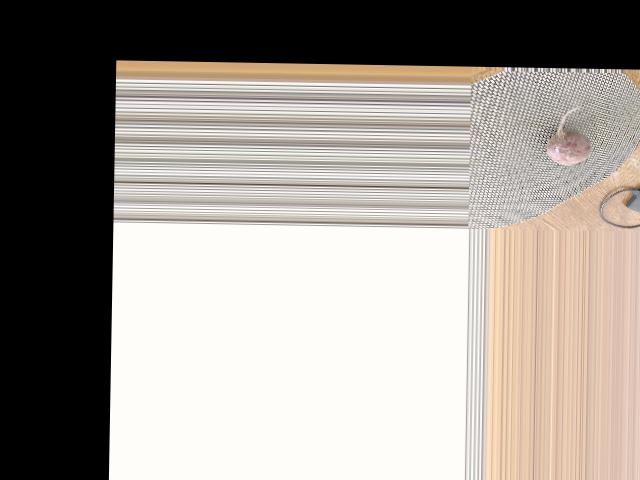beet: (546, 105, 592, 164)
